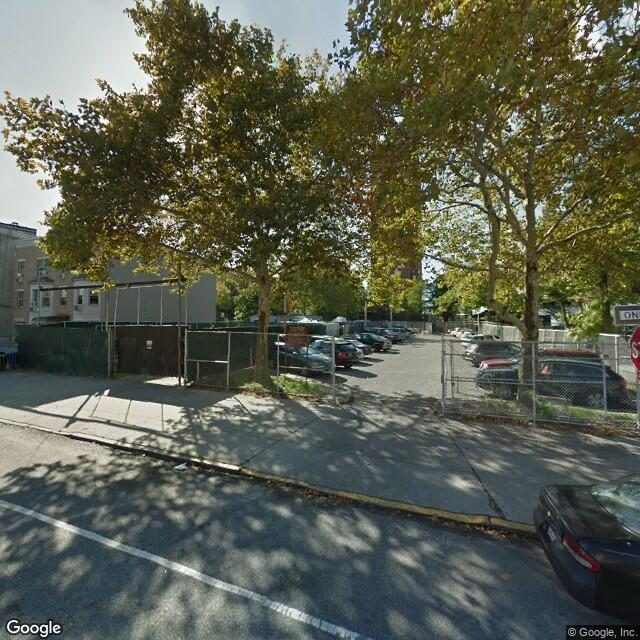litter: (174, 464, 192, 471)
